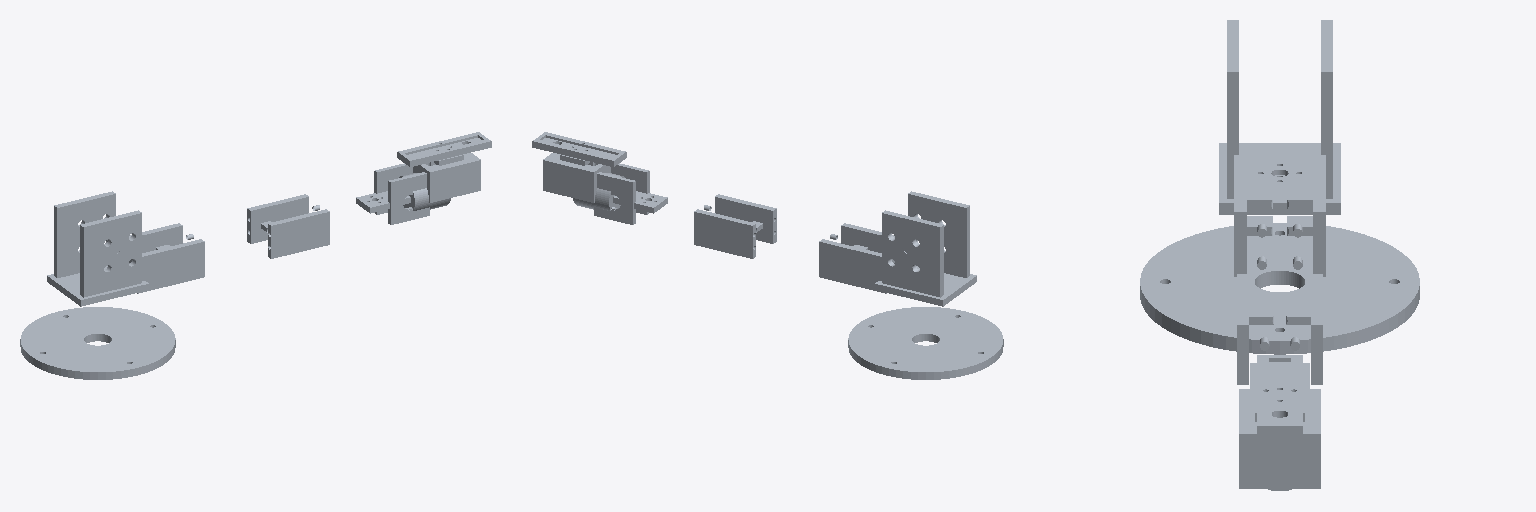
URDF robot description (robotarm):
<?xml version="1.0"?>
<robot name="robotarm">
  <link name="base_link">
    <inertial>
      <mass value="0.06767"/>
      <inertia ixx="0.00006860" ixy="0" ixz="0" iyy="0.00006860" iyz="0" izz="0.00013648"/>
    </inertial>
    <visual>
      <geometry>
        <mesh filename="meshes/01_base_plate.stl" scale="0.001 0.001 0.001"/>
      </geometry>
      <material name="pla"><color rgba="0.75 0.78 0.82 1"/></material>
    </visual>
    <collision>
      <origin xyz="0 0 0" rpy="0 0 0"/>
      <geometry>
        <box size="0.1100 0.1100 0.0080"/>
      </geometry>
    </collision>
  </link>
  <link name="turret_link">
    <inertial>
      <mass value="0.04677"/>
      <inertia ixx="0.00002153" ixy="0" ixz="0" iyy="0.00002401" iyz="0" izz="0.00002196"/>
    </inertial>
    <visual>
      <geometry>
        <mesh filename="meshes/03_turret.stl" scale="0.001 0.001 0.001"/>
      </geometry>
      <material name="pla"><color rgba="0.75 0.78 0.82 1"/></material>
    </visual>
    <collision>
      <origin xyz="0 0 0" rpy="0 0 0"/>
      <geometry>
        <box size="0.0560 0.0500 0.0550"/>
      </geometry>
    </collision>
  </link>
  <link name="upper_link">
    <inertial>
      <mass value="0.02055"/>
      <inertia ixx="0.00000356" ixy="0" ixz="0" iyy="0.00002207" iyz="0" izz="0.00002294"/>
    </inertial>
    <visual>
      <geometry>
        <mesh filename="meshes/06_upper_arm_a.stl" scale="0.001 0.001 0.001"/>
      </geometry>
      <material name="pla"><color rgba="0.75 0.78 0.82 1"/></material>
    </visual>
    <collision>
      <origin xyz="0.0550 0 0" rpy="0 0 0"/>
      <geometry>
        <box size="0.1100 0.0360 0.0280"/>
      </geometry>
    </collision>
  </link>
  <link name="fore_link">
    <inertial>
      <mass value="0.01573"/>
      <inertia ixx="0.00000223" ixy="0" ixz="0" iyy="0.00001272" iyz="0" izz="0.00001317"/>
    </inertial>
    <visual>
      <geometry>
        <mesh filename="meshes/10_forearm_a.stl" scale="0.001 0.001 0.001"/>
      </geometry>
      <material name="pla"><color rgba="0.75 0.78 0.82 1"/></material>
    </visual>
    <collision>
      <origin xyz="0.0475 0 0" rpy="0 0 0"/>
      <geometry>
        <box size="0.0950 0.0320 0.0260"/>
      </geometry>
    </collision>
  </link>
  <link name="wrist_pitch_link">
    <inertial>
      <mass value="0.01017"/>
      <inertia ixx="0.00000125" ixy="0" ixz="0" iyy="0.00000212" iyz="0" izz="0.00000184"/>
    </inertial>
    <visual>
      <geometry>
        <mesh filename="meshes/12_wrist_pitch_yoke.stl" scale="0.001 0.001 0.001"/>
      </geometry>
      <material name="pla"><color rgba="0.75 0.78 0.82 1"/></material>
    </visual>
    <collision>
      <origin xyz="0.0200 0 0" rpy="0 0 0"/>
      <geometry>
        <box size="0.0400 0.0240 0.0300"/>
      </geometry>
    </collision>
  </link>
  <link name="wrist_roll_link">
    <inertial>
      <mass value="0.01000"/>
      <inertia ixx="0.00000131" ixy="0" ixz="0" iyy="0.00000199" iyz="0" izz="0.00000199"/>
    </inertial>
    <visual>
      <geometry>
        <mesh filename="meshes/13_wrist_roll_carrier.stl" scale="0.001 0.001 0.001"/>
      </geometry>
      <material name="pla"><color rgba="0.75 0.78 0.82 1"/></material>
    </visual>
    <collision>
      <origin xyz="0.0200 0 0" rpy="0 0 0"/>
      <geometry>
        <box size="0.0400 0.0280 0.0280"/>
      </geometry>
    </collision>
  </link>
  <link name="wrist_yaw_link">
    <inertial>
      <mass value="0.01000"/>
      <inertia ixx="0.00000053" ixy="0" ixz="0" iyy="0.00000053" iyz="0" izz="0.00000096"/>
    </inertial>
    <visual>
      <geometry>
        <mesh filename="meshes/14_wrist_yaw_flange.stl" scale="0.001 0.001 0.001"/>
      </geometry>
      <material name="pla"><color rgba="0.75 0.78 0.82 1"/></material>
    </visual>
    <collision>
      <origin xyz="0 0 0" rpy="0 0 0"/>
      <geometry>
        <box size="0.0240 0.0240 0.0080"/>
      </geometry>
    </collision>
  </link>
  <link name="gripper_link">
    <inertial>
      <mass value="0.02842"/>
      <inertia ixx="0.00000379" ixy="0" ixz="0" iyy="0.00000554" iyz="0" izz="0.00000660"/>
    </inertial>
    <visual>
      <geometry>
        <mesh filename="meshes/15_gripper_body.stl" scale="0.001 0.001 0.001"/>
      </geometry>
      <material name="pla"><color rgba="0.75 0.78 0.82 1"/></material>
    </visual>
    <collision>
      <origin xyz="0 0 0" rpy="0 0 0"/>
      <geometry>
        <box size="0.0420 0.0320 0.0240"/>
      </geometry>
    </collision>
  </link>
  <link name="camera_link">
    <inertial>
      <mass value="0.01000"/>
      <inertia ixx="0.00000042" ixy="0" ixz="0" iyy="0.00000308" iyz="0" izz="0.00000333"/>
    </inertial>
    <visual>
      <geometry>
        <mesh filename="meshes/19_camera_bracket.stl" scale="0.001 0.001 0.001"/>
      </geometry>
      <material name="pla"><color rgba="0.75 0.78 0.82 1"/></material>
    </visual>
    <collision>
      <origin xyz="0 0 0" rpy="0 0 0"/>
      <geometry>
        <box size="0.0600 0.0200 0.0100"/>
      </geometry>
    </collision>
  </link>
  <joint name="j1" type="revolute">
    <parent link="base_link"/>
    <child link="turret_link"/>
    <origin xyz="0.00000 0.00000 0.04800" rpy="0 0 0"/>
    <axis xyz="0 0 1"/>
    <limit lower="-1.57" upper="1.57" effort="20" velocity="2"/>
    <dynamics damping="0.08" friction="0.02"/>
  </joint>
  <joint name="j2" type="revolute">
    <parent link="turret_link"/>
    <child link="upper_link"/>
    <origin xyz="0.02200 0.00000 0.01000" rpy="0 0 0"/>
    <axis xyz="0 1 0"/>
    <limit lower="-1.2" upper="1.2" effort="20" velocity="2"/>
    <dynamics damping="0.08" friction="0.02"/>
  </joint>
  <joint name="j3" type="revolute">
    <parent link="upper_link"/>
    <child link="fore_link"/>
    <origin xyz="0.11000 0.00000 0.00000" rpy="0 0 0"/>
    <axis xyz="0 1 0"/>
    <limit lower="-1.4" upper="1.4" effort="5" velocity="2"/>
    <dynamics damping="0.08" friction="0.02"/>
  </joint>
  <joint name="j4" type="revolute">
    <parent link="fore_link"/>
    <child link="wrist_pitch_link"/>
    <origin xyz="0.09500 0.00000 0.00000" rpy="0 0 0"/>
    <axis xyz="0 1 0"/>
    <limit lower="-1.57" upper="1.57" effort="5" velocity="2"/>
    <dynamics damping="0.08" friction="0.02"/>
  </joint>
  <joint name="j5" type="revolute">
    <parent link="wrist_pitch_link"/>
    <child link="wrist_roll_link"/>
    <origin xyz="0.01833 0.00000 0.00000" rpy="0 0 0"/>
    <axis xyz="1 0 0"/>
    <limit lower="-1.57" upper="1.57" effort="5" velocity="2"/>
    <dynamics damping="0.08" friction="0.02"/>
  </joint>
  <joint name="j6" type="revolute">
    <parent link="wrist_roll_link"/>
    <child link="wrist_yaw_link"/>
    <origin xyz="0.01833 0.00000 0.00000" rpy="0 0 0"/>
    <axis xyz="0 0 1"/>
    <limit lower="-1.57" upper="1.57" effort="5" velocity="2"/>
    <dynamics damping="0.08" friction="0.02"/>
  </joint>
  <joint name="gripper" type="revolute">
    <parent link="wrist_yaw_link"/>
    <child link="gripper_link"/>
    <origin xyz="0.02000 0.00000 0.00000" rpy="0 0 0"/>
    <axis xyz="0 0 1"/>
    <limit lower="0.0" upper="0.7" effort="5" velocity="2"/>
    <dynamics damping="0.08" friction="0.02"/>
  </joint>
  <joint name="camera_tilt" type="revolute">
    <parent link="gripper_link"/>
    <child link="camera_link"/>
    <origin xyz="0.00000 0.00000 0.02800" rpy="0 0 0"/>
    <axis xyz="0 1 0"/>
    <limit lower="-0.8" upper="0.8" effort="5" velocity="2"/>
    <dynamics damping="0.08" friction="0.02"/>
  </joint>
</robot>

--- Facts derived from the render (not from the file) ---
Views: 3 orthographic renders of the robot side by side, from view 1: azimuth 30°, elevation 25°; view 2: azimuth 150°, elevation 25°; view 3: azimuth 270°, elevation 25°.
Robot: robotarm — 9 links, 8 joints (8 revolute); root link base_link; default pose: every joint at zero.
Links seen in each view (by area): view 1: base_link, turret_link, fore_link, upper_link, wrist_pitch_link, gripper_link, camera_link, wrist_roll_link; view 2: base_link, turret_link, fore_link, upper_link, wrist_pitch_link, gripper_link, camera_link, wrist_roll_link; view 3: base_link, turret_link, gripper_link, upper_link, camera_link, fore_link.
Boxes of the visible links, bbox=[...] form: base_link: bbox=[20, 307, 175, 379]; turret_link: bbox=[47, 191, 148, 306]; fore_link: bbox=[247, 194, 329, 258]; upper_link: bbox=[117, 223, 204, 293]; wrist_pitch_link: bbox=[356, 163, 429, 224]; gripper_link: bbox=[413, 153, 480, 202]; camera_link: bbox=[397, 132, 491, 166]; wrist_roll_link: bbox=[382, 173, 450, 210]; base_link: bbox=[848, 307, 1003, 379]; turret_link: bbox=[875, 191, 976, 306]; fore_link: bbox=[694, 194, 776, 258]; upper_link: bbox=[819, 223, 906, 293]; wrist_pitch_link: bbox=[594, 163, 667, 224]; gripper_link: bbox=[543, 153, 610, 202]; camera_link: bbox=[532, 132, 626, 166]; wrist_roll_link: bbox=[573, 173, 641, 210]; base_link: bbox=[1140, 223, 1419, 354]; turret_link: bbox=[1219, 20, 1340, 214]; gripper_link: bbox=[1239, 389, 1320, 488]; upper_link: bbox=[1234, 153, 1325, 276]; camera_link: bbox=[1255, 355, 1304, 437]; fore_link: bbox=[1237, 274, 1322, 384].
Bounding box of the posed robot: 0.3719 × 0.11 × 0.108 m (x, y, z).
9 mesh visuals loaded from 9 distinct referenced files (9 binary STL).
